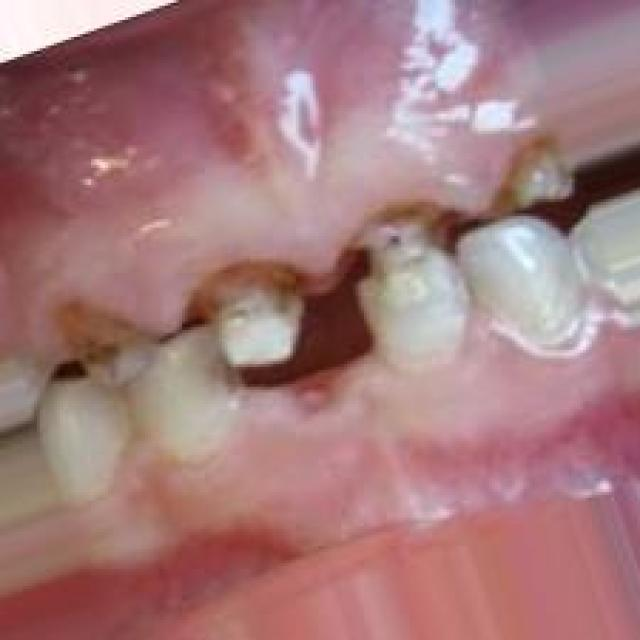caries: (325, 193, 464, 371), (180, 247, 322, 385), (48, 292, 166, 398), (482, 133, 585, 234)
